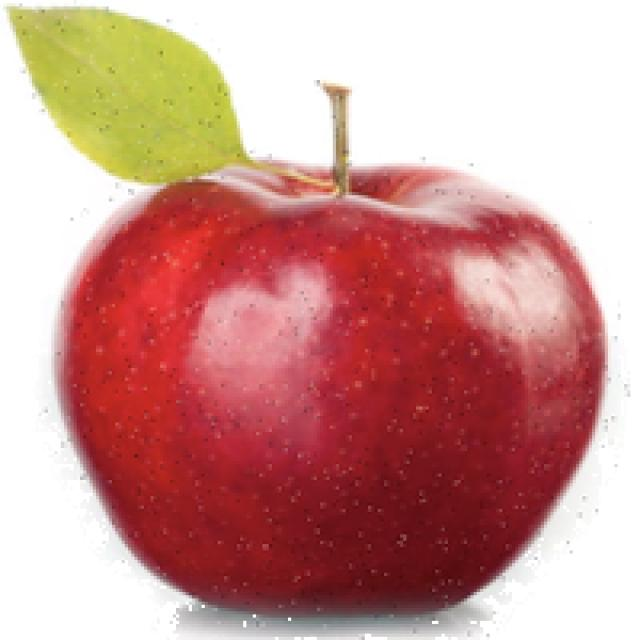apple: (0, 0, 630, 637)
